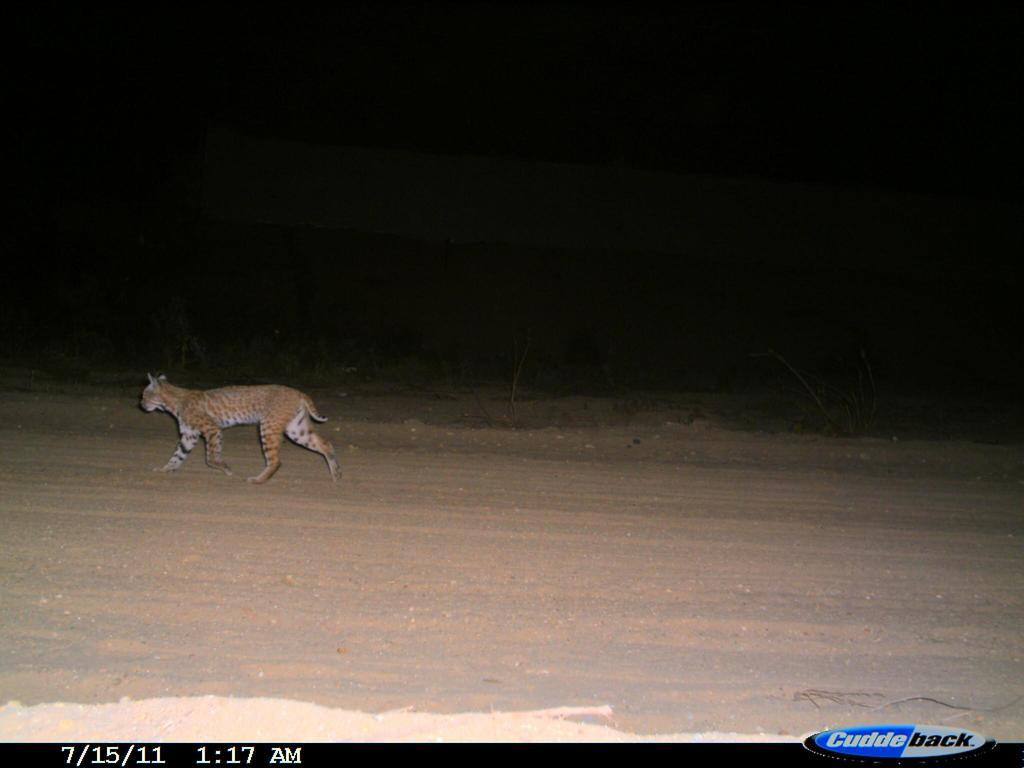bobcat: (132, 363, 353, 492)
